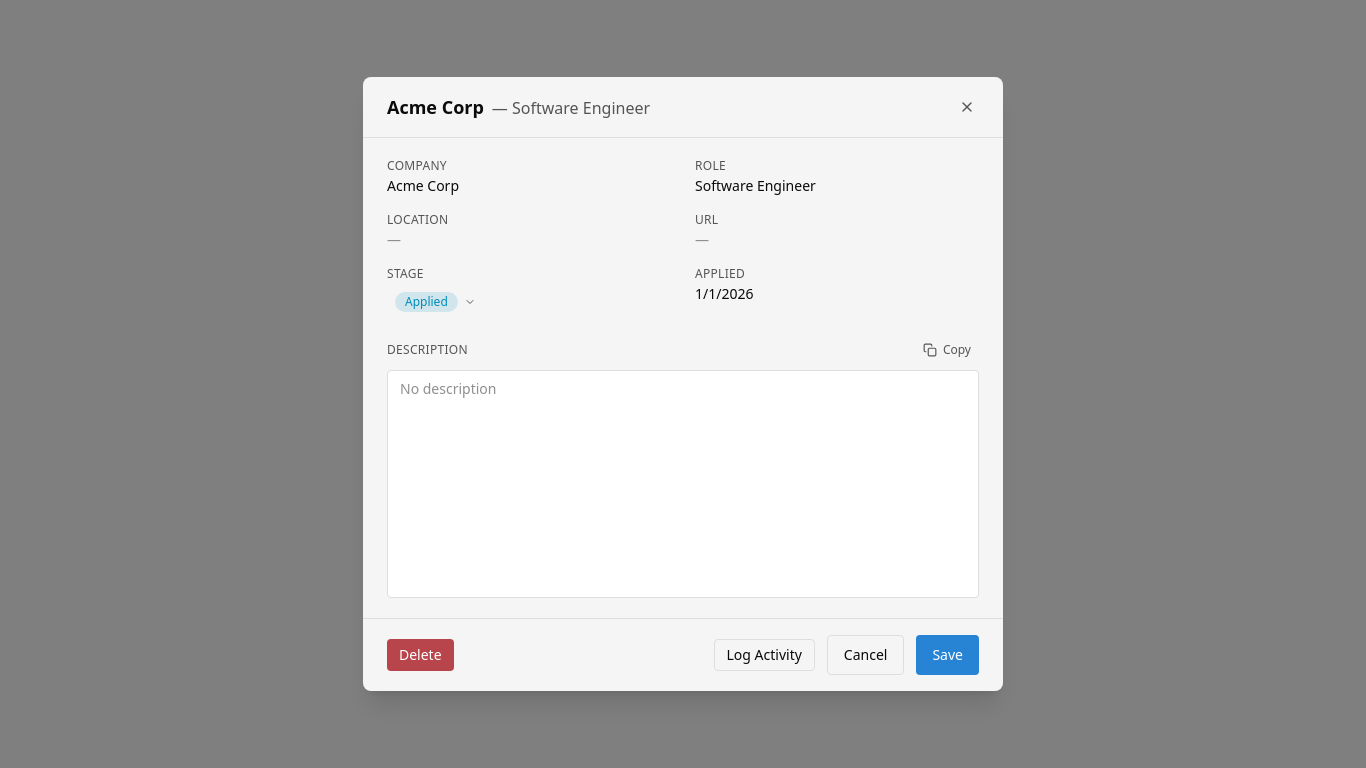
Test: JobApplicationDetailModal › shows confirmation prompt when Delete button clicked
Click the button "Delete": [420, 655] box [387, 639, 454, 671]
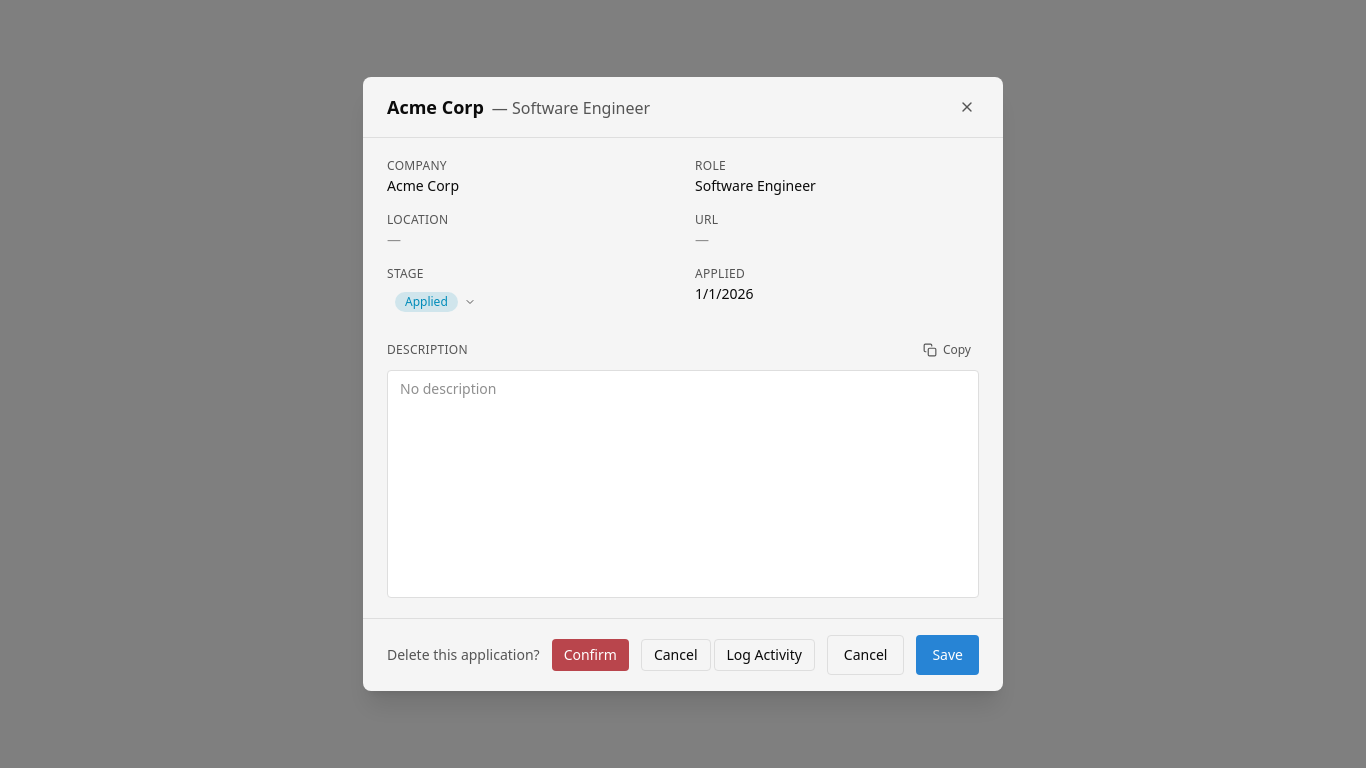
Result: the text "Delete this application?" is shown at [387, 645, 540, 665]
Result: the button "Confirm" is shown at [552, 639, 629, 671]
